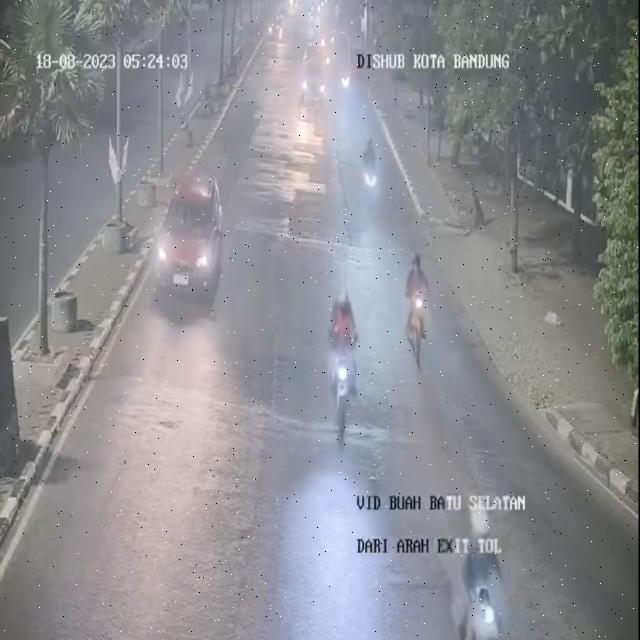cars: (155, 168, 226, 301), (295, 54, 328, 111)
motorcycle: (440, 497, 510, 640), (324, 290, 370, 458), (400, 245, 431, 358), (357, 126, 386, 202)
